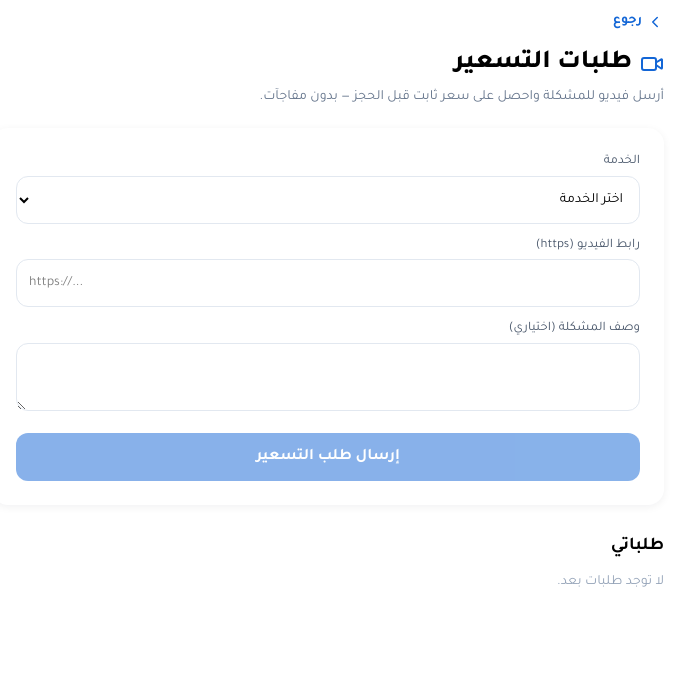
Test: QuotesPage — quote_first assessment intake › shows the inspection fee and site-media fields instead of a video url
Select "دهان" in the dropdown named "اختر الخدمة" at (328,200), box [16,176,640,224]
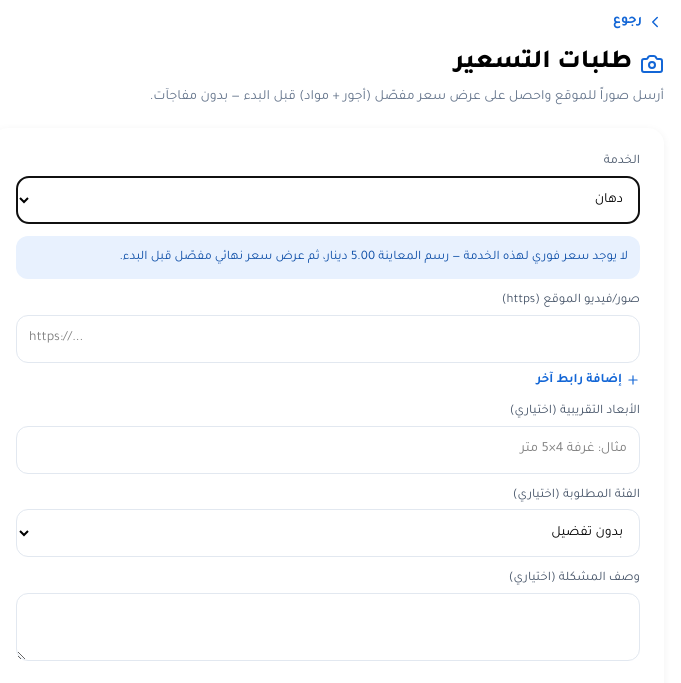
Result: the text "رسم المعاينة 5.00 دينار" is shown at [16,236,640,279]
Result: the field named "رابط وسائط الموقع 1" is shown at [16,314,640,362]
